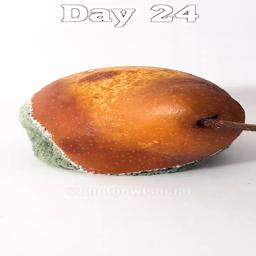Pear Rotten: (8, 60, 256, 182)
